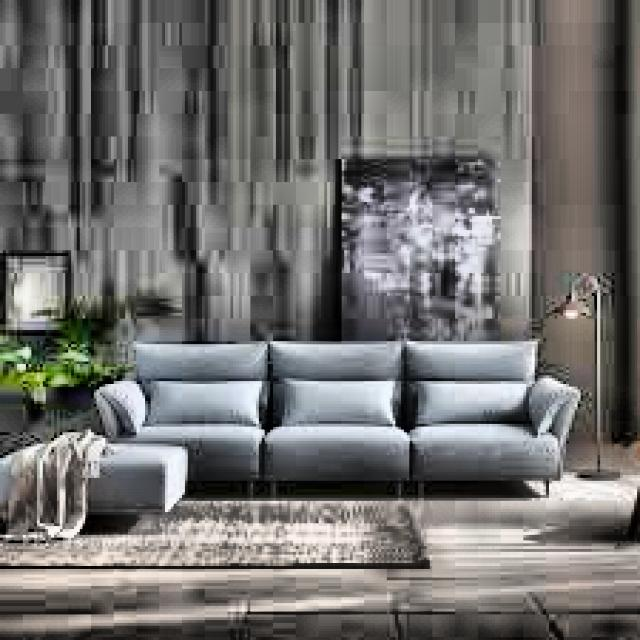sofa: (94, 342, 589, 504)
